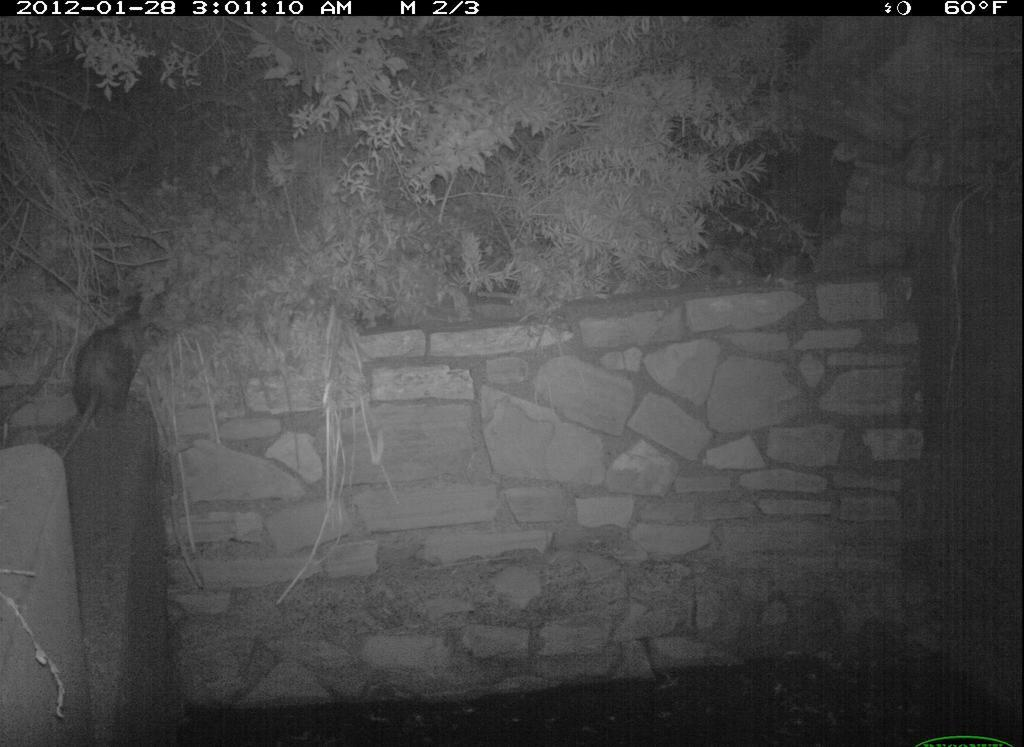opossum: (48, 294, 171, 470)
